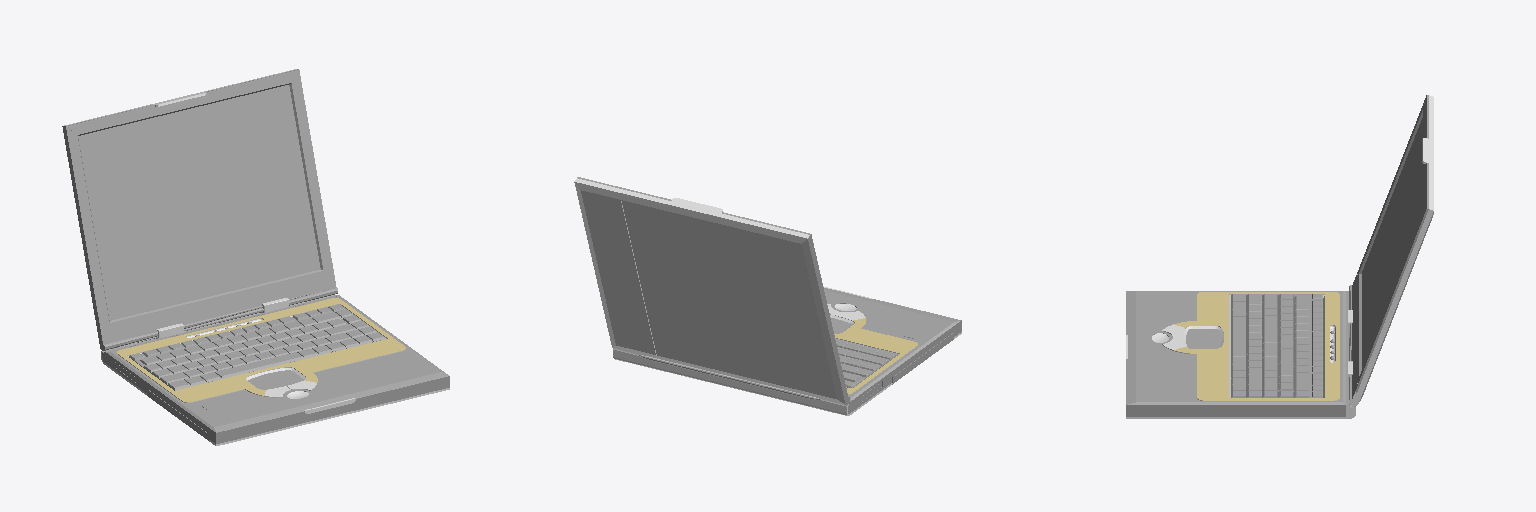
3 renders of one model, left to right at view 1: azimuth 30°, elevation 25°; view 2: azimuth 150°, elevation 25°; view 3: azimuth 270°, elevation 25°, orthographic.
Parts seen in each view (by area): view 1: Object_color_35-35-35.jpg, Object_color_227-213-153.jpg, Object_color_237-237-237.jpg; view 2: Object_color_237-237-237.jpg, Object_color_35-35-35.jpg, Object_color_227-213-153.jpg, Object_color_227-227-227.jpg; view 3: Object_color_35-35-35.jpg, Object_color_227-213-153.jpg, Object_color_237-237-237.jpg, Object_color_227-227-227.jpg.
Part boxes in pixels (bbox=[...]): Object_color_35-35-35.jpg: bbox=[62, 69, 449, 443]; Object_color_227-213-153.jpg: bbox=[117, 298, 405, 402]; Object_color_237-237-237.jpg: bbox=[64, 69, 449, 445]; Object_color_237-237-237.jpg: bbox=[574, 178, 961, 415]; Object_color_35-35-35.jpg: bbox=[577, 177, 961, 413]; Object_color_227-213-153.jpg: bbox=[834, 318, 917, 393]; Object_color_227-227-227.jpg: bbox=[639, 315, 921, 399]; Object_color_35-35-35.jpg: bbox=[1126, 95, 1428, 416]; Object_color_227-213-153.jpg: bbox=[1174, 292, 1339, 400]; Object_color_237-237-237.jpg: bbox=[1126, 95, 1433, 418]; Object_color_227-227-227.jpg: bbox=[1183, 295, 1324, 397].
Size of the model in its own units: 2.19 by 1.89 by 2.5.
Materials: 7 (5 with a texture image).